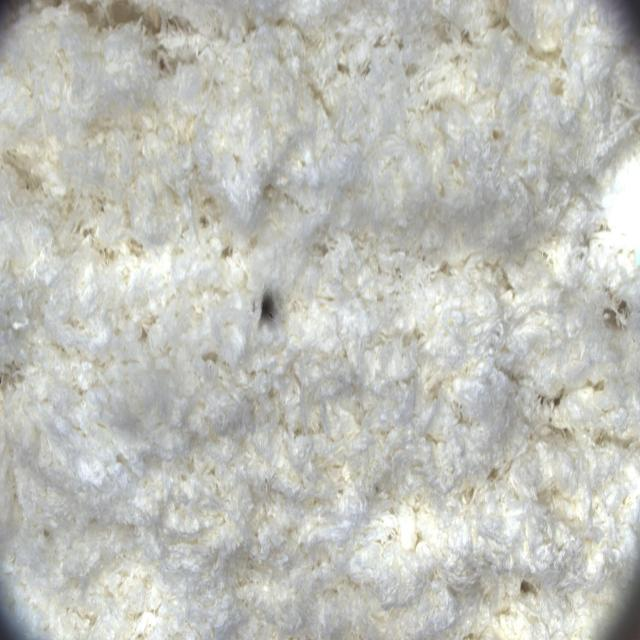dust: (242, 274, 297, 340)
